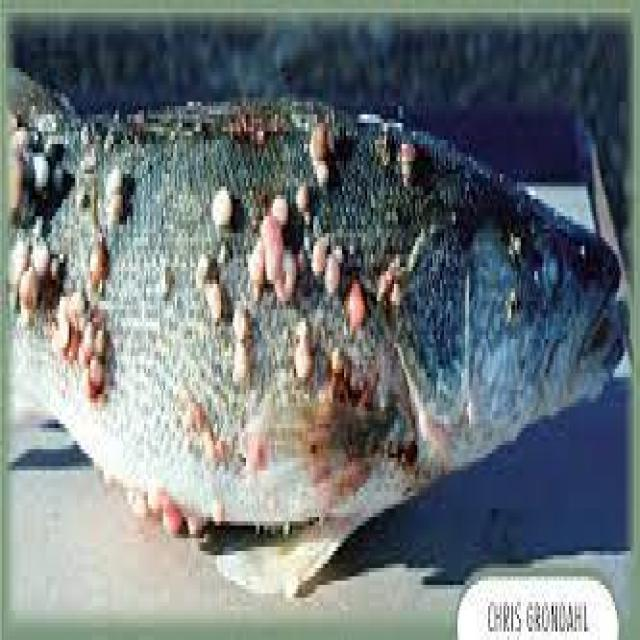EUS Disease: (7, 87, 638, 526), (0, 103, 503, 531)
